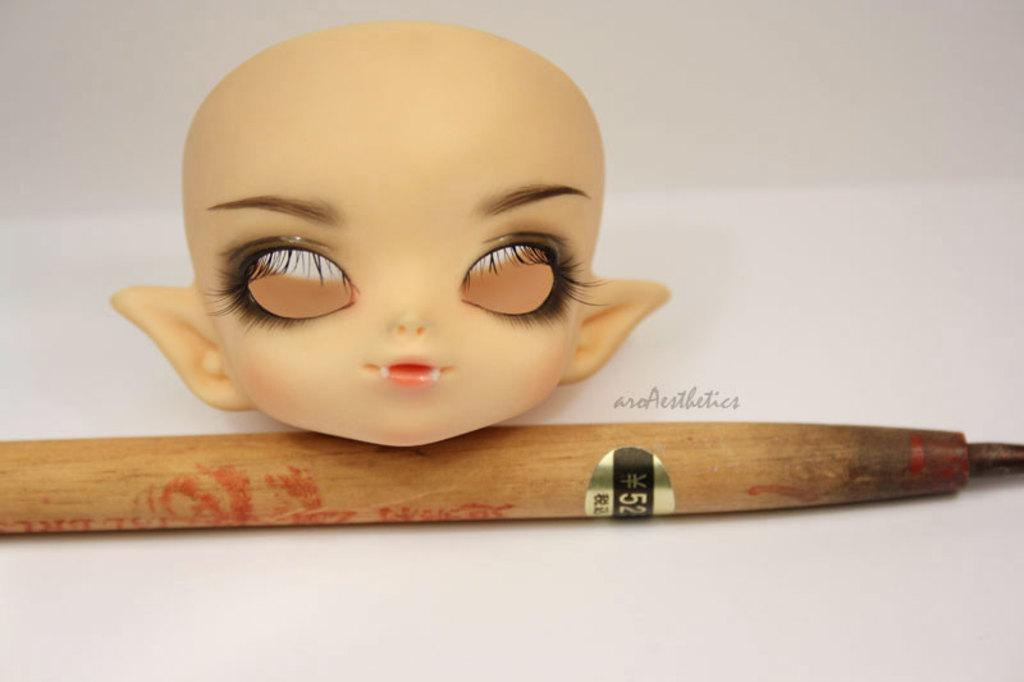pen: (0, 415, 1023, 534)
